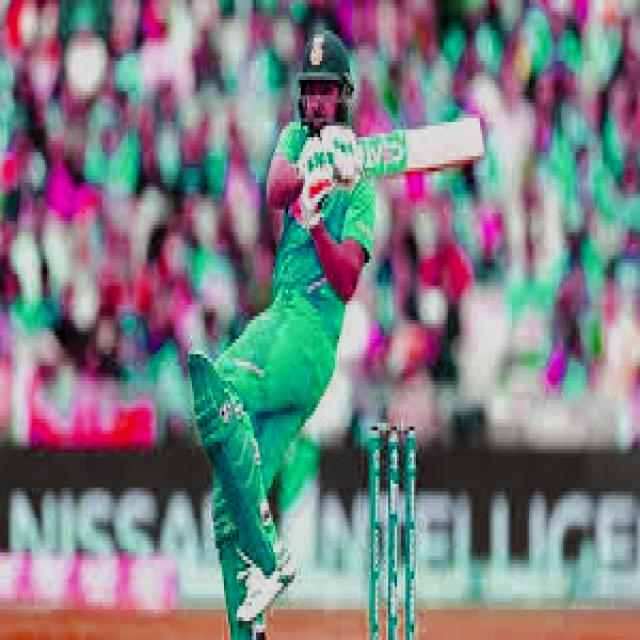toe: (448, 117, 487, 169)
